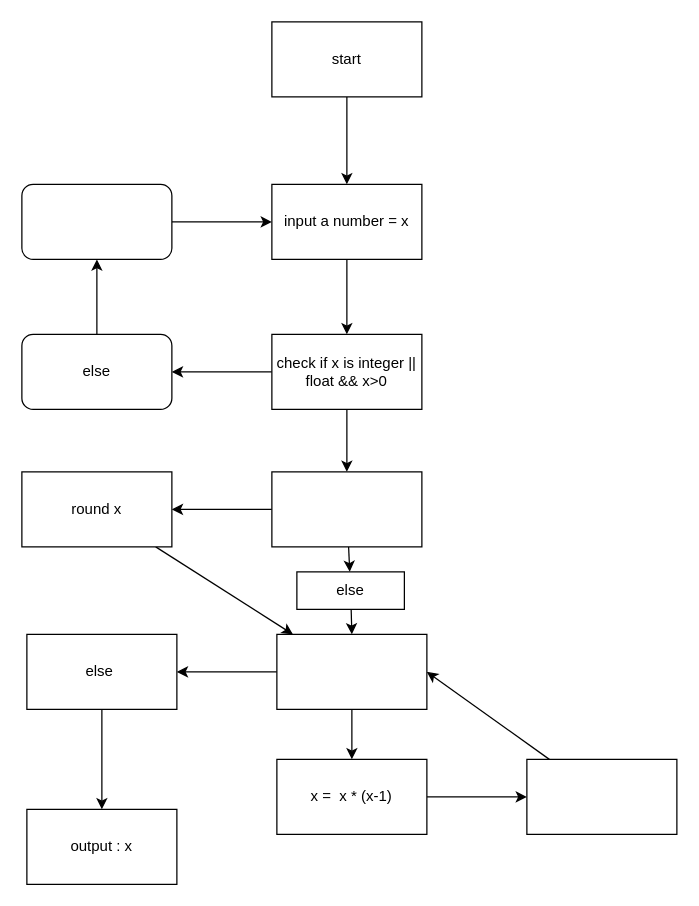
The diagram is 699 pixels wide and 906 high, and some of its shapes have lost their labels. Here are the shapes that lost their labels. From the top down, the box of each, then its label:
(21, 183, 172, 259): output : please enter valid value
(271, 471, 422, 547): if x is float
(276, 633, 427, 709): check (x-1) >0
(526, 758, 677, 834): repeat
